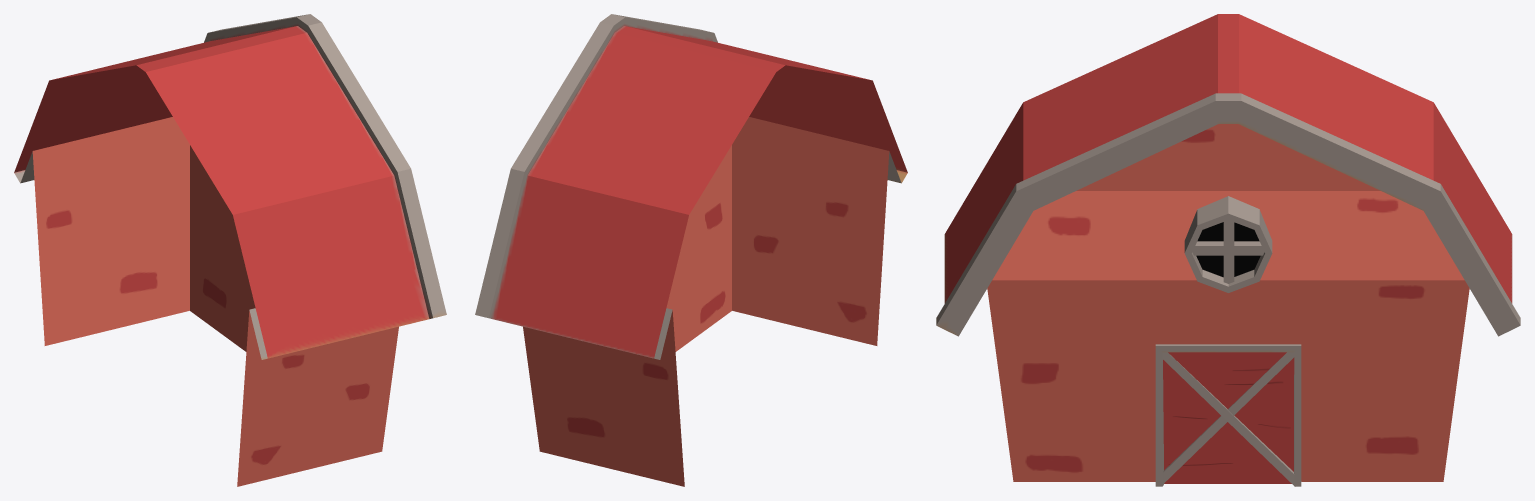
File: FBX_Granero.fbx
3 views of the same model, side by side, from view 1: azimuth 30°, elevation 25°; view 2: azimuth 150°, elevation 25°; view 3: azimuth 270°, elevation 25° (orthographic). The views are drawn at different scales.
Visible parts, largest first — view 1: Granero; view 2: Granero; view 3: Granero.
Boxes of the visible parts, x1,y1,x2,y2 form: Granero: [14, 14, 446, 486]; Granero: [475, 14, 907, 486]; Granero: [936, 14, 1520, 486].
Bounding box in the file's own units: 165 × 320 × 426.
